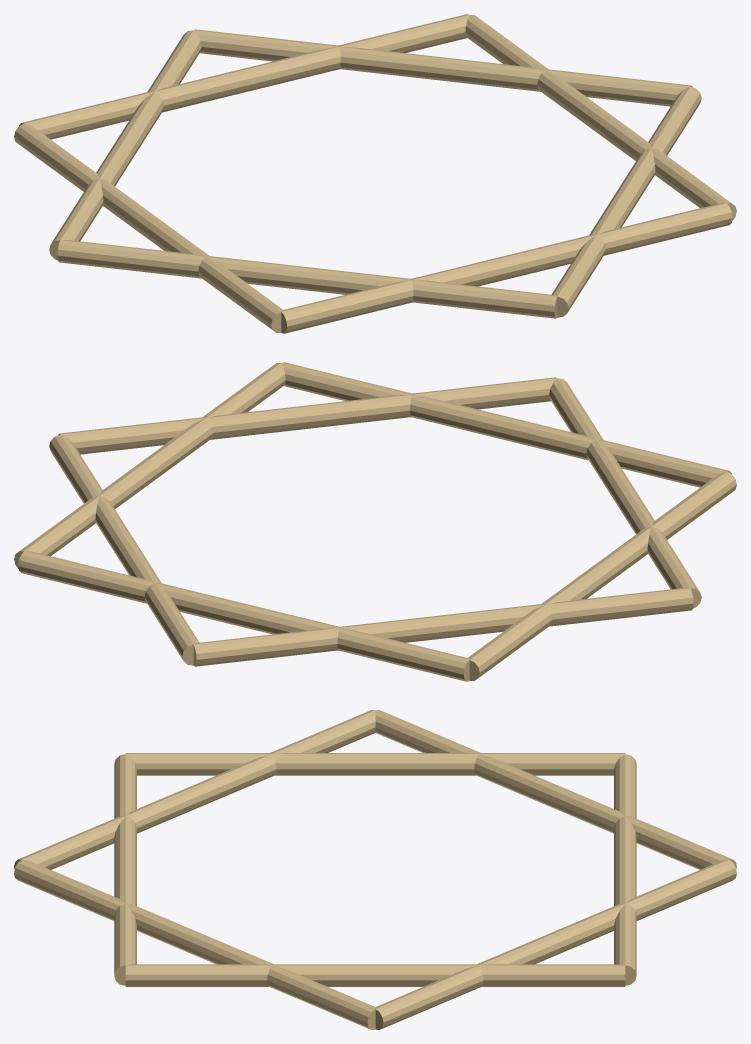
File: petronas_two_squares_8_point_star.glb
3 views of the same model, one above another, from view 1: azimuth 30°, elevation 25°; view 2: azimuth 150°, elevation 25°; view 3: azimuth 270°, elevation 25° (orthographic). The views are drawn at different scales.
Parts seen in each view (by area): view 1: square_0_edge_1, square_0_edge_3, square_1_edge_0, square_1_edge_2, square_1_edge_1, square_1_edge_3, square_0_edge_0, square_0_edge_2; view 2: square_0_edge_2, square_0_edge_0, square_1_edge_2, square_1_edge_0, square_1_edge_1, square_1_edge_3, square_0_edge_3, square_0_edge_1; view 3: square_1_edge_3, square_1_edge_1, square_0_edge_0, square_0_edge_3, square_0_edge_1, square_0_edge_2, square_1_edge_0, square_1_edge_2.
Boxes of the visible parts, box(x1,y1,x2,y2) form: square_0_edge_1: box(57, 240, 557, 318); square_0_edge_3: box(194, 29, 692, 106); square_1_edge_0: box(281, 203, 732, 333); square_1_edge_2: box(19, 14, 469, 139); square_1_edge_1: box(14, 123, 282, 332); square_1_edge_3: box(465, 15, 736, 220); square_0_edge_0: box(551, 86, 701, 317); square_0_edge_2: box(49, 30, 201, 260); square_0_edge_2: box(193, 588, 693, 666); square_0_edge_0: box(58, 377, 556, 454); square_1_edge_2: box(18, 551, 469, 681); square_1_edge_0: box(281, 362, 731, 487); square_1_edge_1: box(468, 471, 736, 680); square_1_edge_3: box(14, 363, 285, 568); square_0_edge_3: box(49, 434, 199, 665); square_0_edge_1: box(549, 378, 701, 608); square_1_edge_3: box(125, 964, 625, 986); square_1_edge_1: box(125, 753, 625, 775); square_0_edge_0: box(14, 859, 375, 1029); square_0_edge_3: box(375, 859, 736, 1029); square_0_edge_1: box(14, 710, 375, 869); square_0_edge_2: box(375, 710, 736, 869); square_1_edge_0: box(114, 754, 136, 985); square_1_edge_2: box(614, 754, 636, 985).
Bounding box in the file's own units: 5.73 × 0.18 × 5.73.
